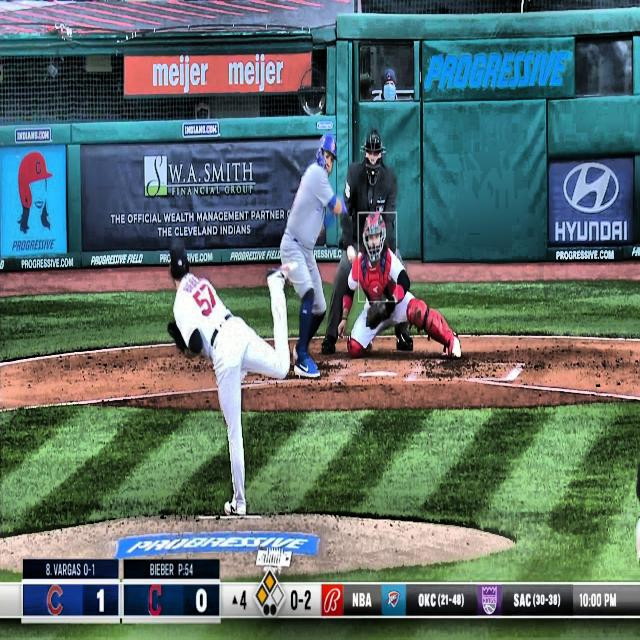baseball: (346, 244, 356, 263)
